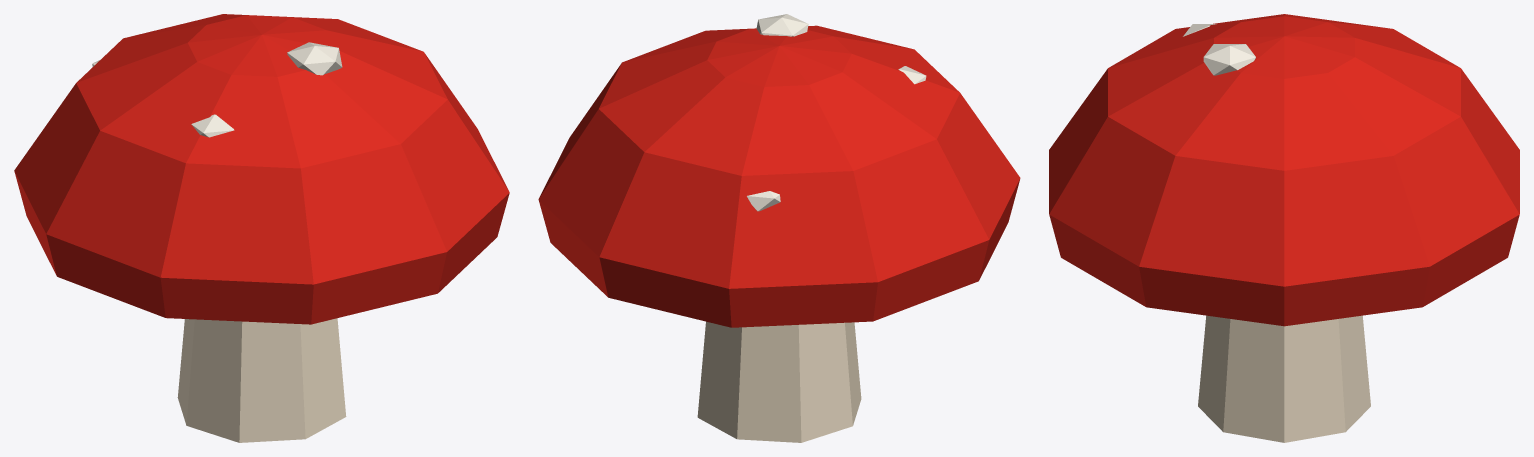
The model's file is nature2_mushroom_red.glb.
The picture shows the model from 3 angles, left to right: view 1: azimuth 30°, elevation 25°; view 2: azimuth 150°, elevation 25°; view 3: azimuth 270°, elevation 25°; orthographic projection. The views are drawn at different scales.
Parts seen in each view (by area): view 1: mushroom_red; view 2: mushroom_red; view 3: mushroom_red.
Boxes of the visible parts, x1,y1,x2,y2 form: mushroom_red: [14, 14, 509, 442]; mushroom_red: [538, 14, 1020, 442]; mushroom_red: [1049, 14, 1519, 442].
Size of the model in its own units: 0.4 by 0.3325 by 0.3804.
